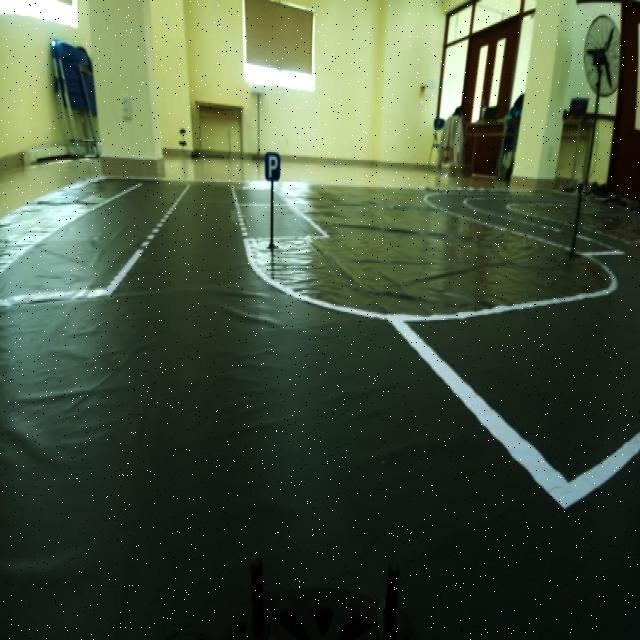parking: (257, 142, 291, 186)
